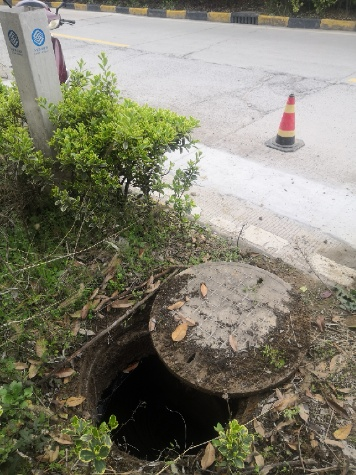well: (58, 252, 354, 473)
